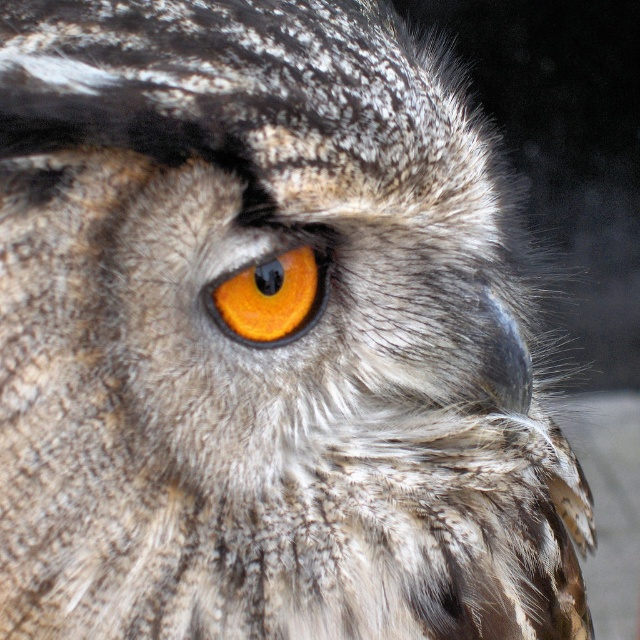Owl: (0, 0, 598, 640)
